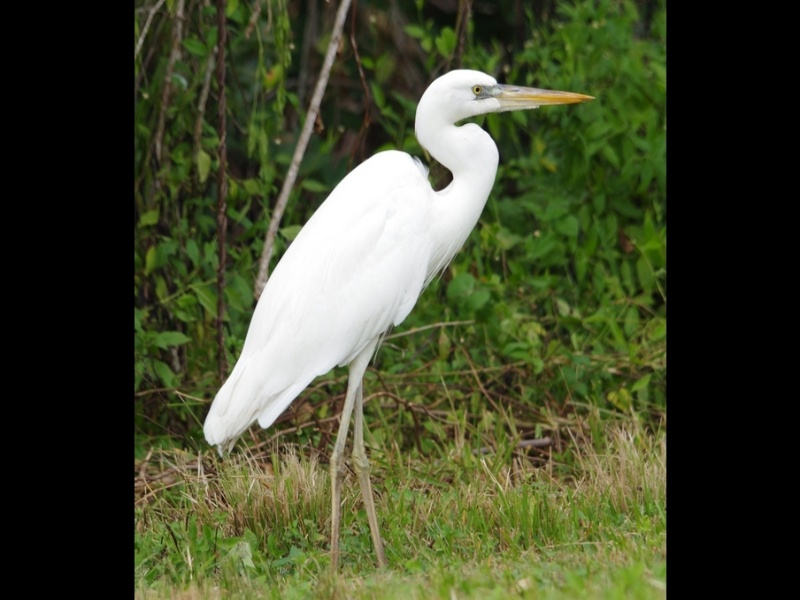heron: (198, 66, 601, 565)
